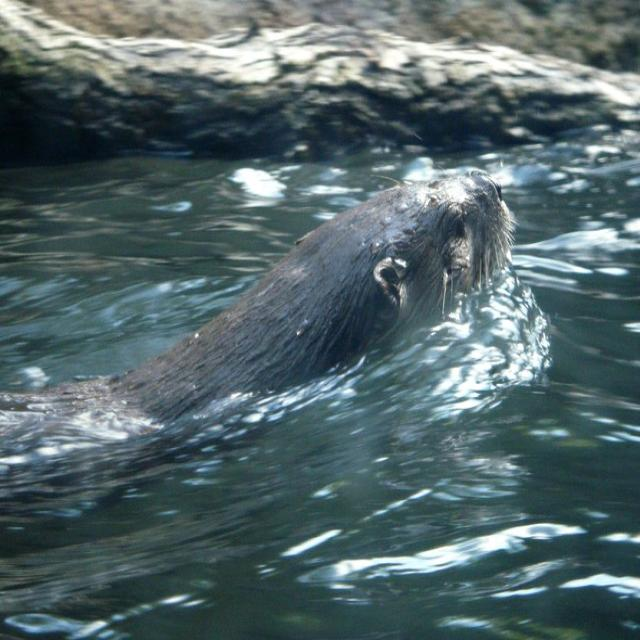otter: (77, 167, 510, 406)
